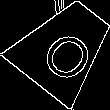O_NE: (31, 14, 98, 81)
